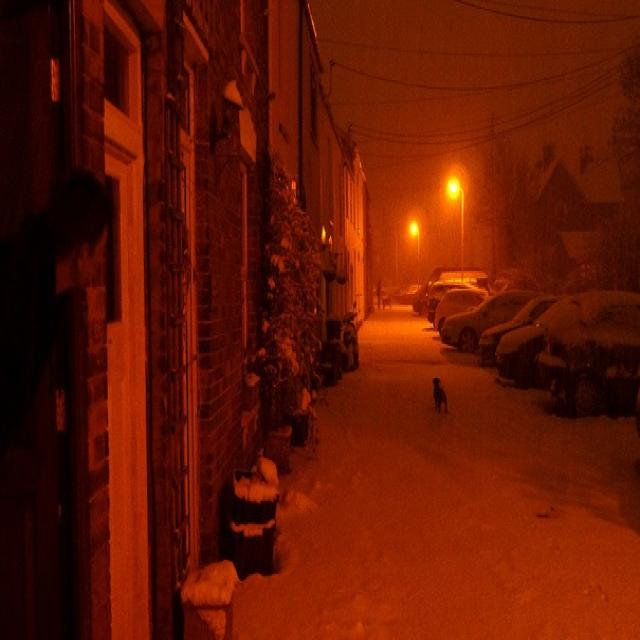dog: (410, 345, 464, 423)
